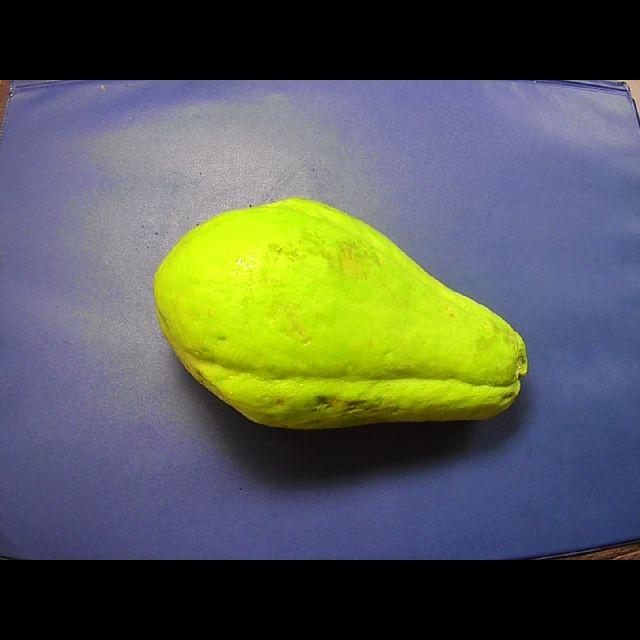chayote: (155, 199, 526, 428)
